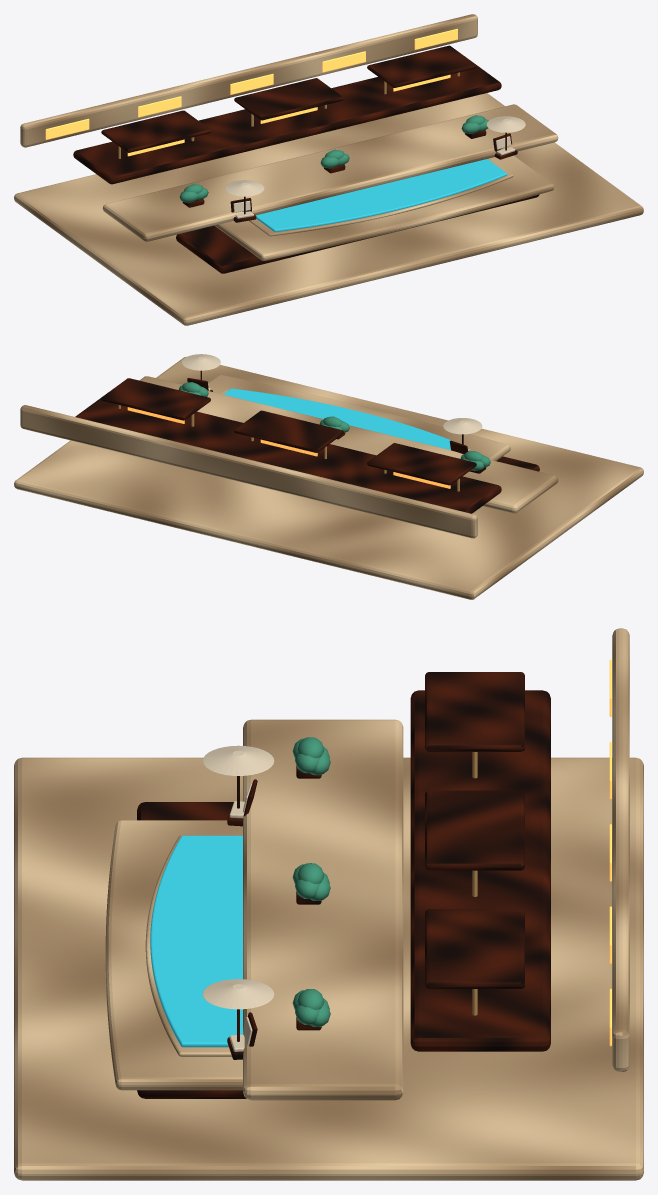
The model's file is hotel-roof.glb.
The picture shows the model from 3 angles, top to bottom: view 1: azimuth 30°, elevation 25°; view 2: azimuth 150°, elevation 25°; view 3: azimuth 270°, elevation 25°; orthographic projection. The views are drawn at different scales.
Parts seen in each view (by area): view 1: ASSET_HOTEL_ROOF_PaleTravertine, ASSET_HOTEL_ROOF_DarkTeak, RoofPoolPoolWater, ASSET_HOTEL_ROOF_WarmEmissive, ASSET_HOTEL_ROOF_ResortLoungeFabric, ASSET_HOTEL_ROOF_RoofPlant; view 2: ASSET_HOTEL_ROOF_PaleTravertine, ASSET_HOTEL_ROOF_DarkTeak, RoofPoolPoolWater, ASSET_HOTEL_ROOF_ResortLoungeFabric, ASSET_HOTEL_ROOF_RoofPlant, ASSET_HOTEL_ROOF_WarmEmissive; view 3: ASSET_HOTEL_ROOF_PaleTravertine, ASSET_HOTEL_ROOF_DarkTeak, RoofPoolPoolWater, ASSET_HOTEL_ROOF_ResortLoungeFabric, ASSET_HOTEL_ROOF_RoofPlant, ASSET_HOTEL_ROOF_WarmEmissive.
Part boxes in pixels (box(x1,y1,x2,y2)): ASSET_HOTEL_ROOF_PaleTravertine: box(14, 14, 643, 325); ASSET_HOTEL_ROOF_DarkTeak: box(73, 45, 539, 273); RoofPoolPoolWater: box(256, 159, 507, 231); ASSET_HOTEL_ROOF_WarmEmissive: box(45, 28, 457, 156); ASSET_HOTEL_ROOF_ResortLoungeFabric: box(225, 116, 525, 218); ASSET_HOTEL_ROOF_RoofPlant: box(179, 115, 488, 202); ASSET_HOTEL_ROOF_PaleTravertine: box(14, 356, 643, 599); ASSET_HOTEL_ROOF_DarkTeak: box(75, 370, 539, 513); RoofPoolPoolWater: box(223, 388, 454, 449); ASSET_HOTEL_ROOF_ResortLoungeFabric: box(181, 354, 482, 434); ASSET_HOTEL_ROOF_RoofPlant: box(178, 382, 490, 470); ASSET_HOTEL_ROOF_WarmEmissive: box(127, 407, 450, 488); ASSET_HOTEL_ROOF_PaleTravertine: box(14, 628, 643, 1180); ASSET_HOTEL_ROOF_DarkTeak: box(137, 672, 550, 1098); RoofPoolPoolWater: box(150, 835, 242, 1047); ASSET_HOTEL_ROOF_ResortLoungeFabric: box(202, 745, 274, 1051); ASSET_HOTEL_ROOF_RoofPlant: box(292, 737, 330, 1026); ASSET_HOTEL_ROOF_WarmEmissive: box(609, 659, 611, 1046).
Bounding box in the file's own units: 17 × 2.9 × 11.
7 materials, 2 textured.
